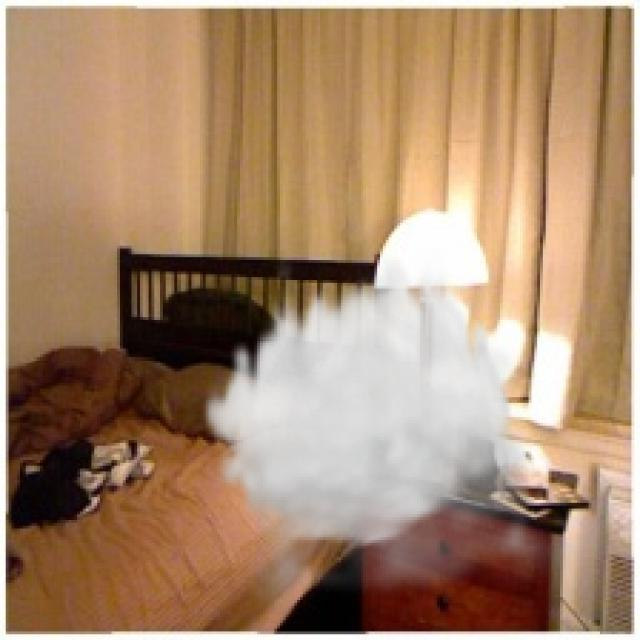smoke: (200, 249, 580, 620)
